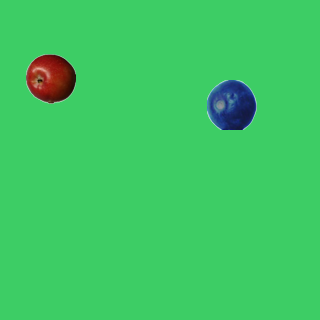Apple Braeburn: (25, 53, 75, 103)
Huckleberry: (206, 79, 256, 129)
